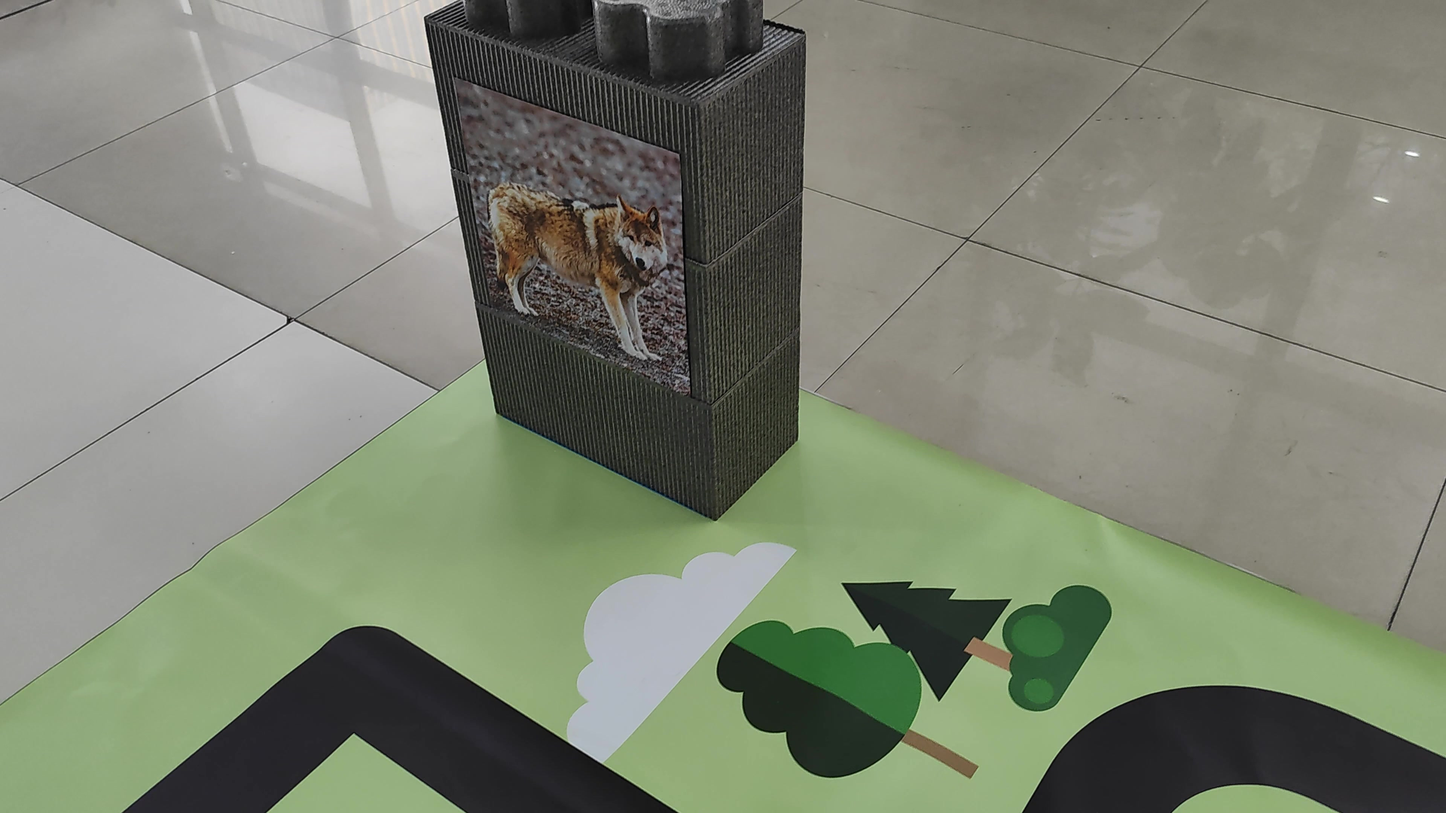wolf: (476, 158, 682, 377)
